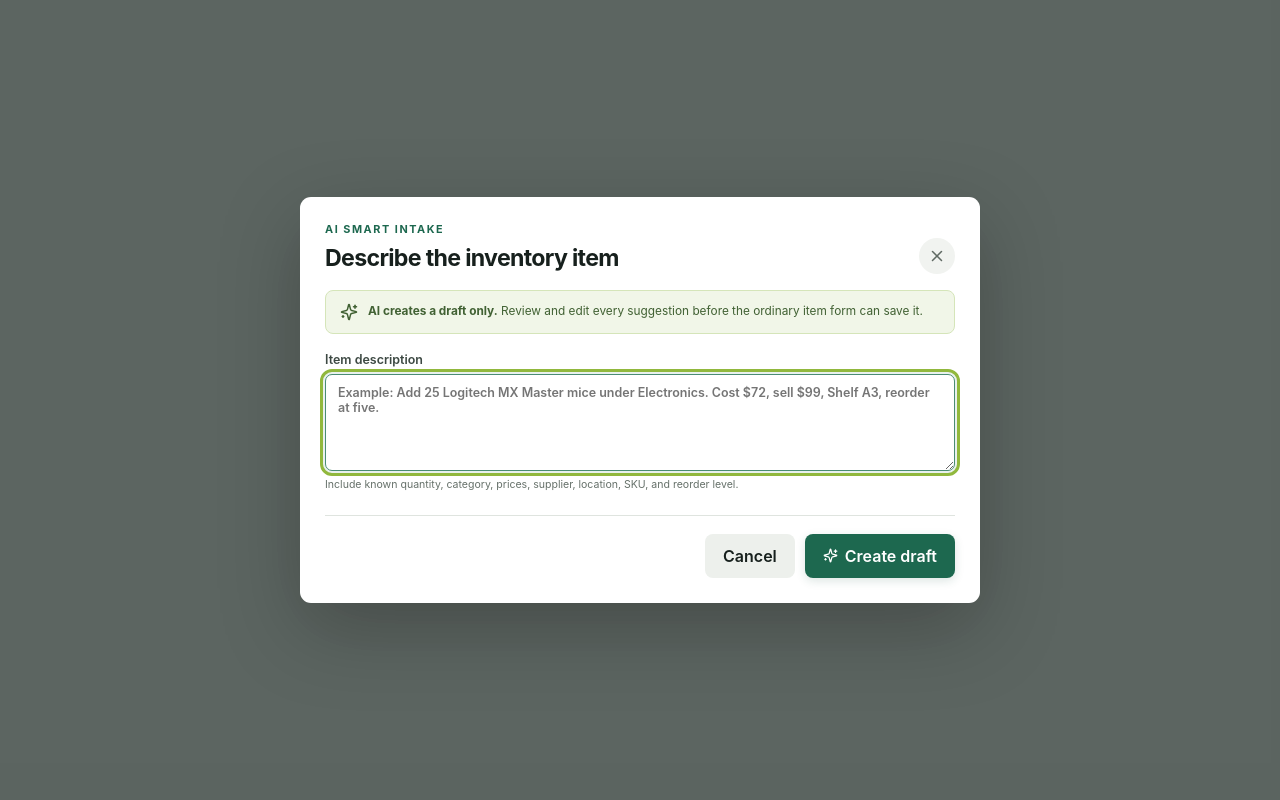
Test: preserves the original description when extraction fails
This screenshot has width=1280, height=800.
Type "Add twelve barcode scanners to warehouse equipment." into the text box labelled "Item description" at (640, 423), box left=325, top=374, right=955, bottom=471
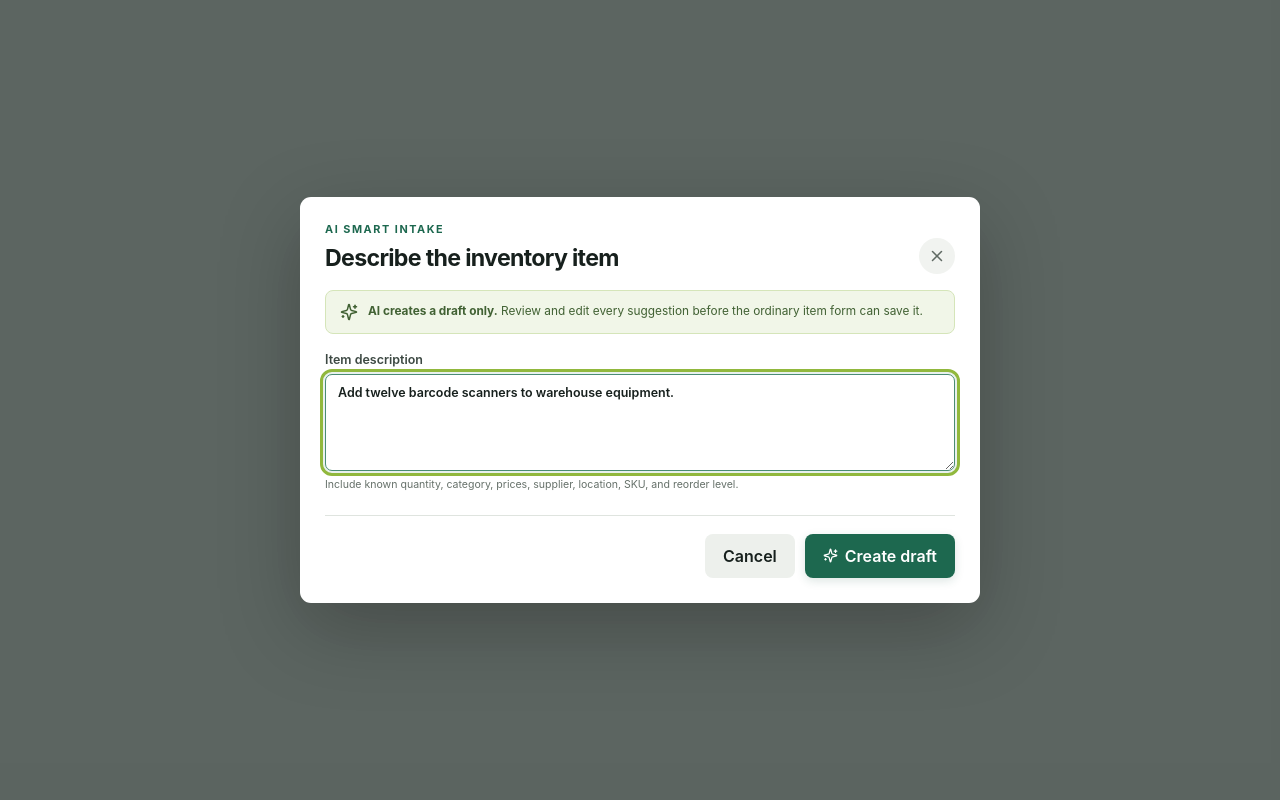
Click the button "Create draft" at (880, 556), box left=805, top=534, right=955, bottom=578
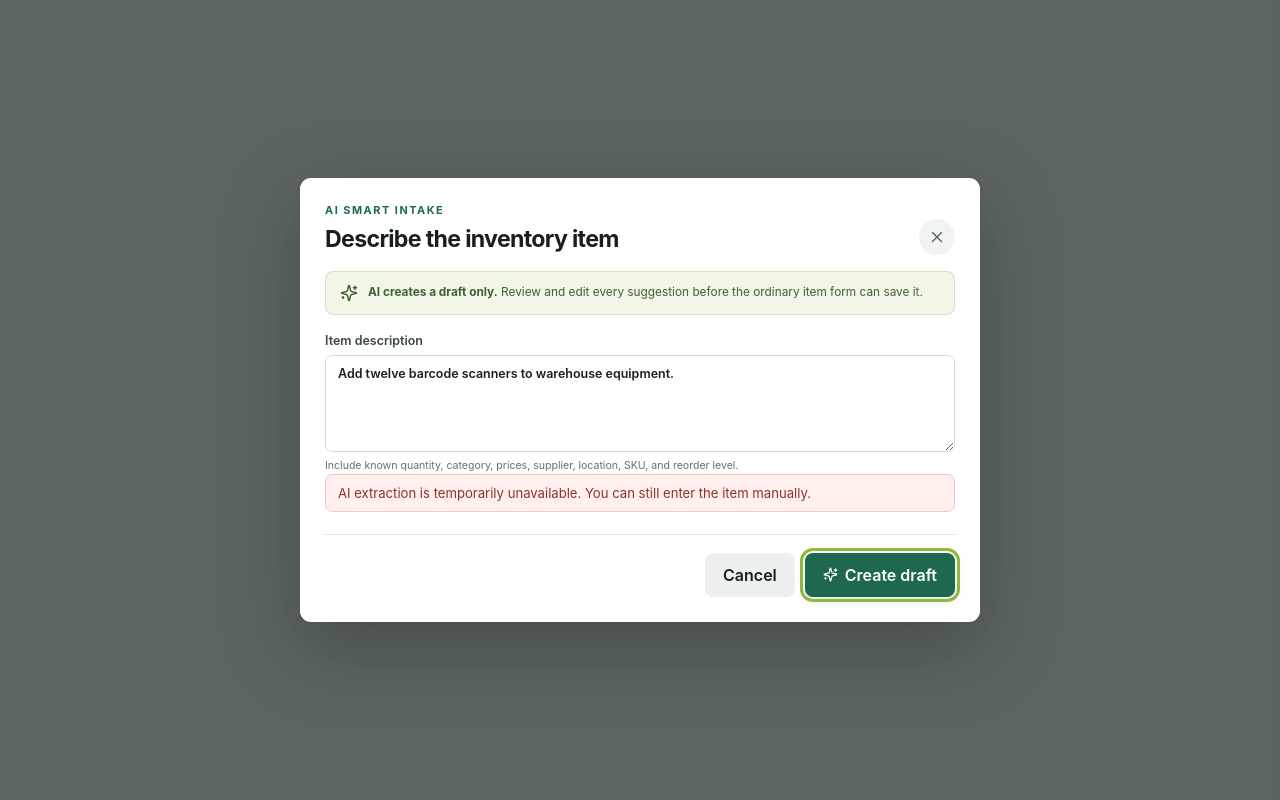
Now the message shows "temporarily unavailable", box left=338, top=485, right=811, bottom=501
